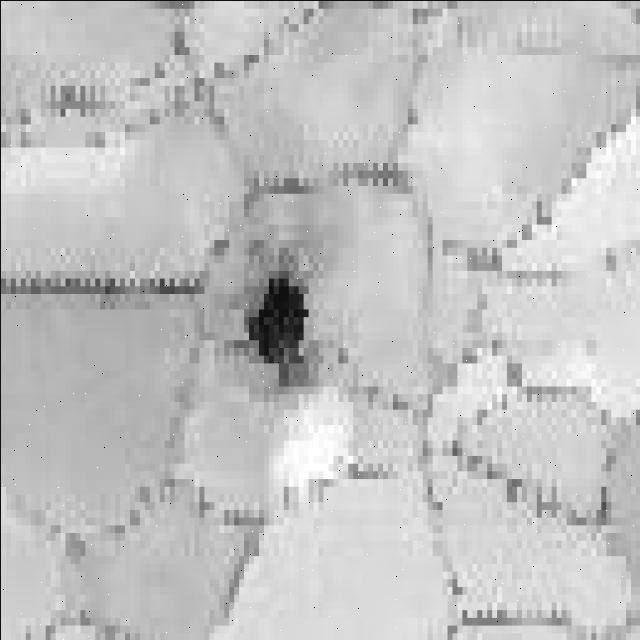good_void: (240, 254, 315, 399)
